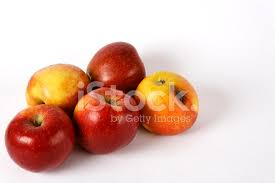apple: (8, 108, 73, 176), (76, 90, 141, 154), (90, 42, 151, 93), (30, 66, 84, 112)
damaged_apple: (137, 72, 205, 133)
